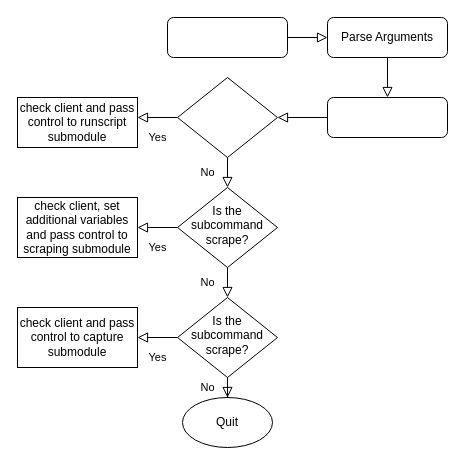
Image size: 465x465. Some labels were removed from this diagram. The shapes that lost their labels are listed below. From the top down, each one's box as (x1, y1, x2, y2) in pixels, then its label:
(166, 16, 288, 58): Enter Main
(176, 76, 278, 158): Is the subcommand run?
(326, 96, 448, 138): Setup Client
